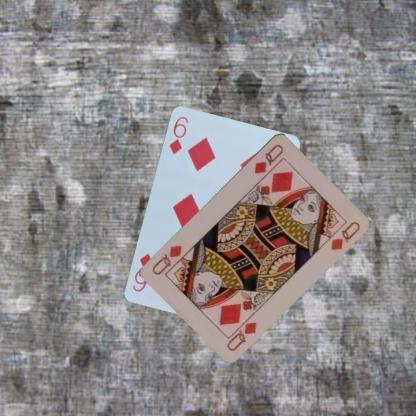6d: (166, 113, 190, 155)
Qd: (224, 312, 258, 352), (251, 141, 285, 175)
